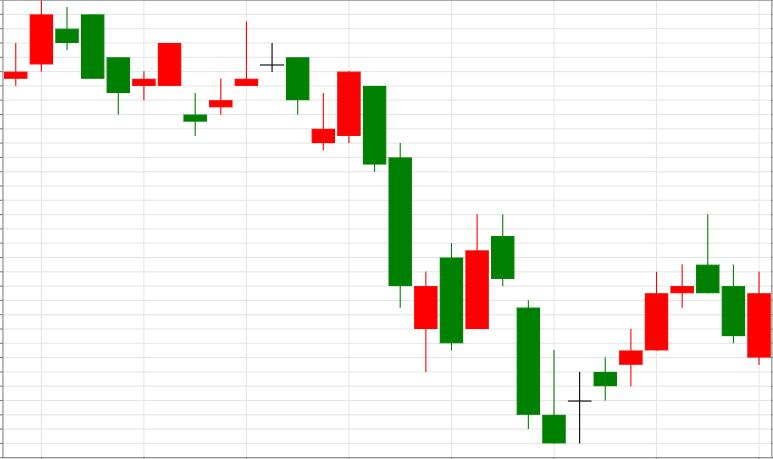inverse_hammer_rise: (362, 86, 565, 443)
